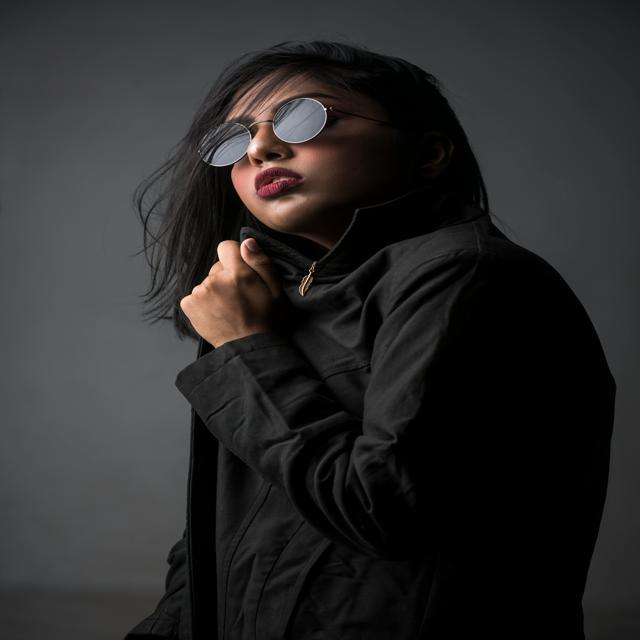2_gafas: (196, 94, 396, 168)
